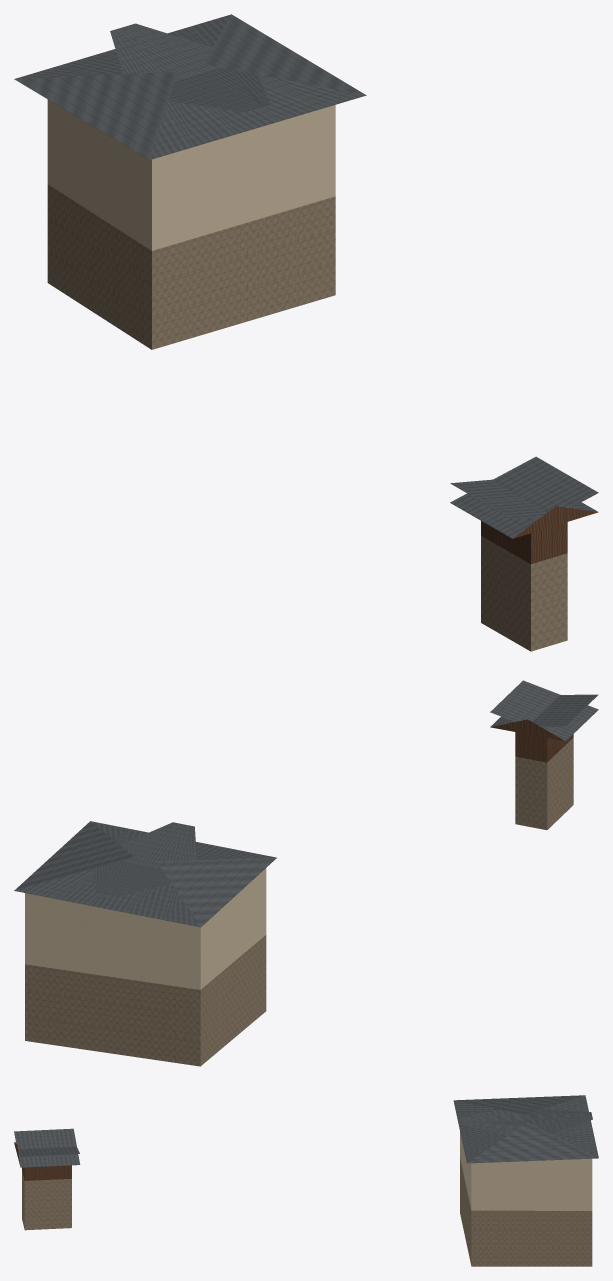
Rendered from bld_c7_38_515.gltf.
The picture shows the model from 3 angles, top to bottom: view 1: azimuth 30°, elevation 25°; view 2: azimuth 150°, elevation 25°; view 3: azimuth 270°, elevation 25°; orthographic projection. The views are drawn at different scales.
Parts seen in each view (by area): view 1: bld_c7_38_515; view 2: bld_c7_38_515; view 3: bld_c7_38_515.
Boxes of the visible parts, bbox=[...] form: bld_c7_38_515: bbox=[14, 14, 598, 651]; bld_c7_38_515: bbox=[14, 680, 598, 1066]; bld_c7_38_515: bbox=[14, 1095, 598, 1266].
Size of the model in its own units: 14.32 by 11.9 by 48.42.
Materials: 5 (5 with a texture image).
